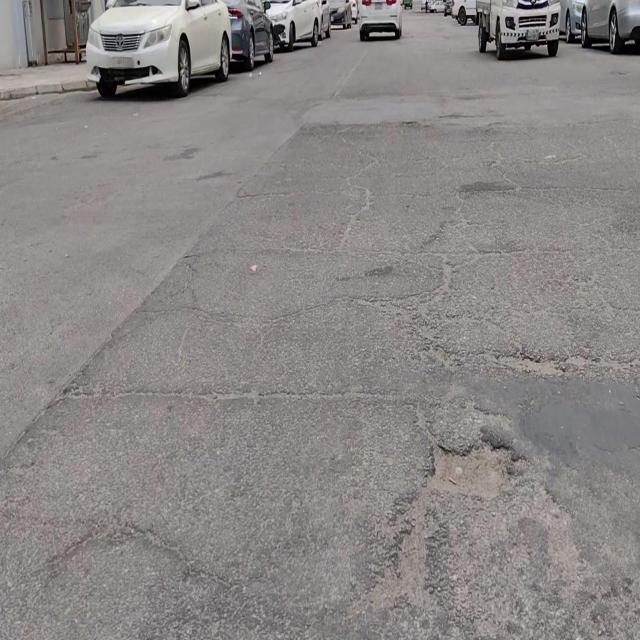Potholes: (420, 427, 532, 505)
